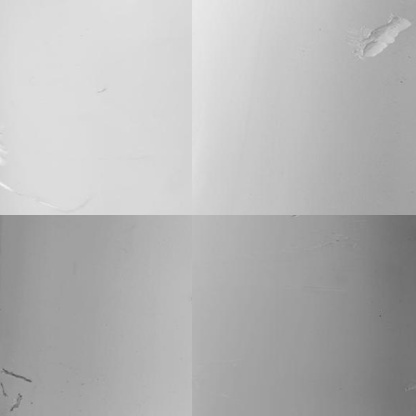fengxi: (4, 367, 34, 382)
sunshang: (356, 12, 410, 58)
